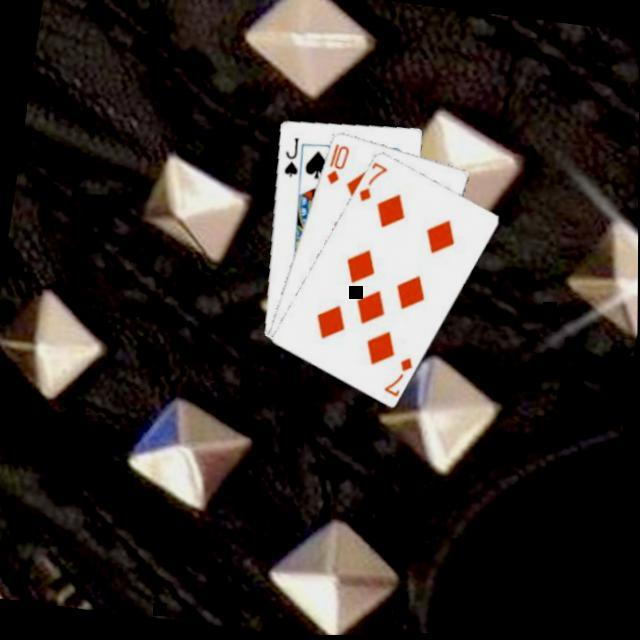10D: (320, 142, 350, 192)
7D: (352, 160, 389, 210), (378, 354, 415, 404)
JS: (276, 135, 303, 183)
